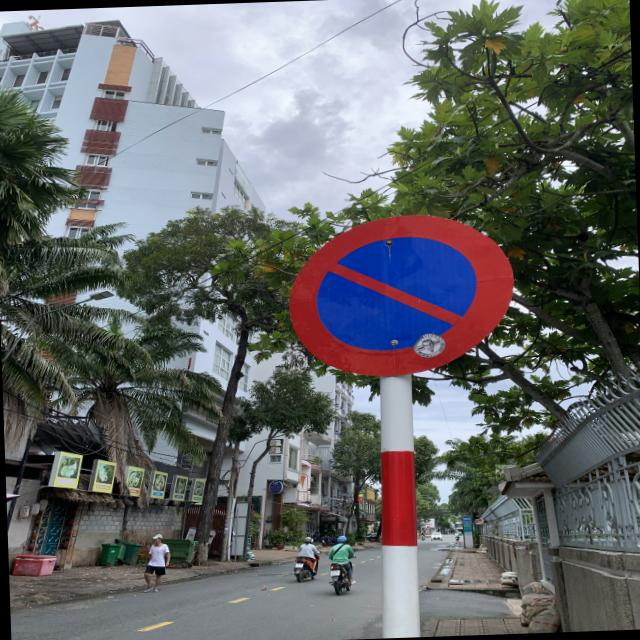Cam_Dau_Xe: (286, 211, 516, 379)
